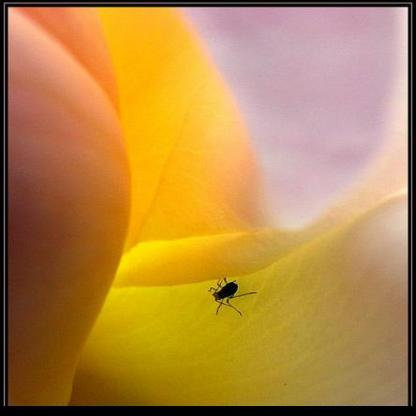aphid: (201, 269, 257, 317)
